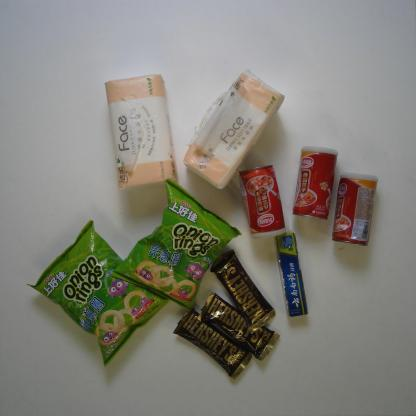Canned Food: (330, 171, 379, 247), (291, 145, 339, 220), (238, 164, 286, 238)
Chocolate: (197, 292, 281, 362), (172, 308, 252, 380), (210, 248, 276, 334)
Personal Hygiene: (273, 231, 309, 318)
Puffed Food: (26, 218, 170, 368), (111, 177, 243, 310)
Tissue: (181, 68, 286, 192), (103, 72, 178, 190)
